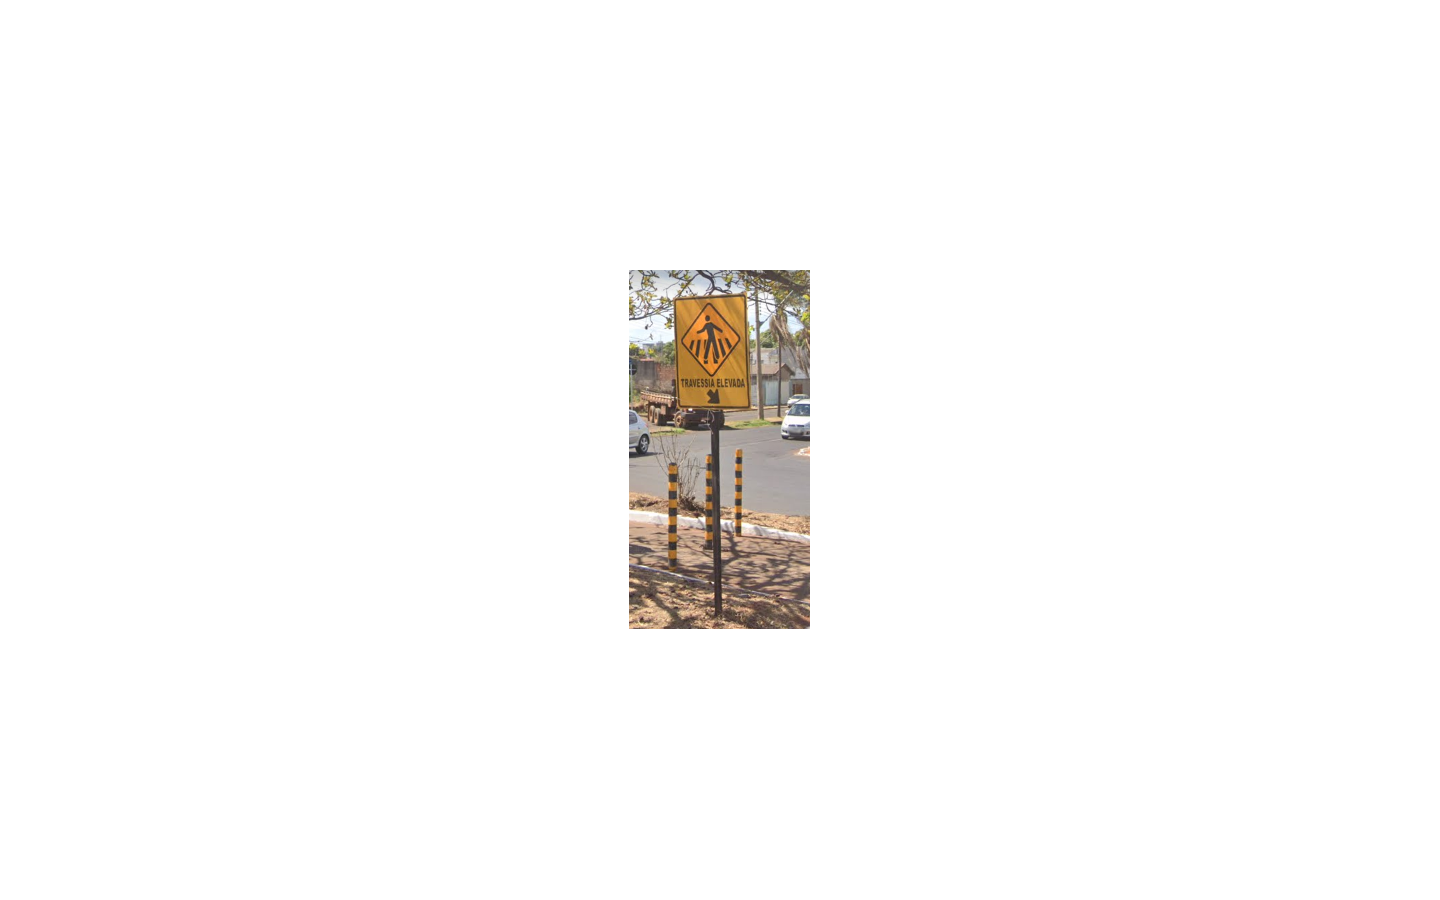telev: (672, 292, 753, 412)
